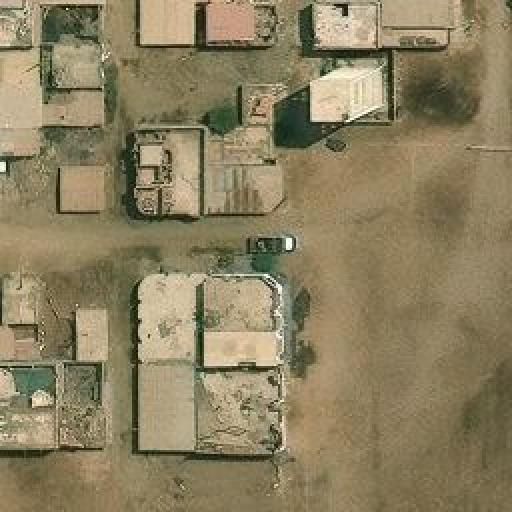manzanas: (136, 271, 287, 461), (135, 83, 292, 220), (308, 0, 469, 128), (0, 272, 108, 456), (137, 0, 285, 48)
